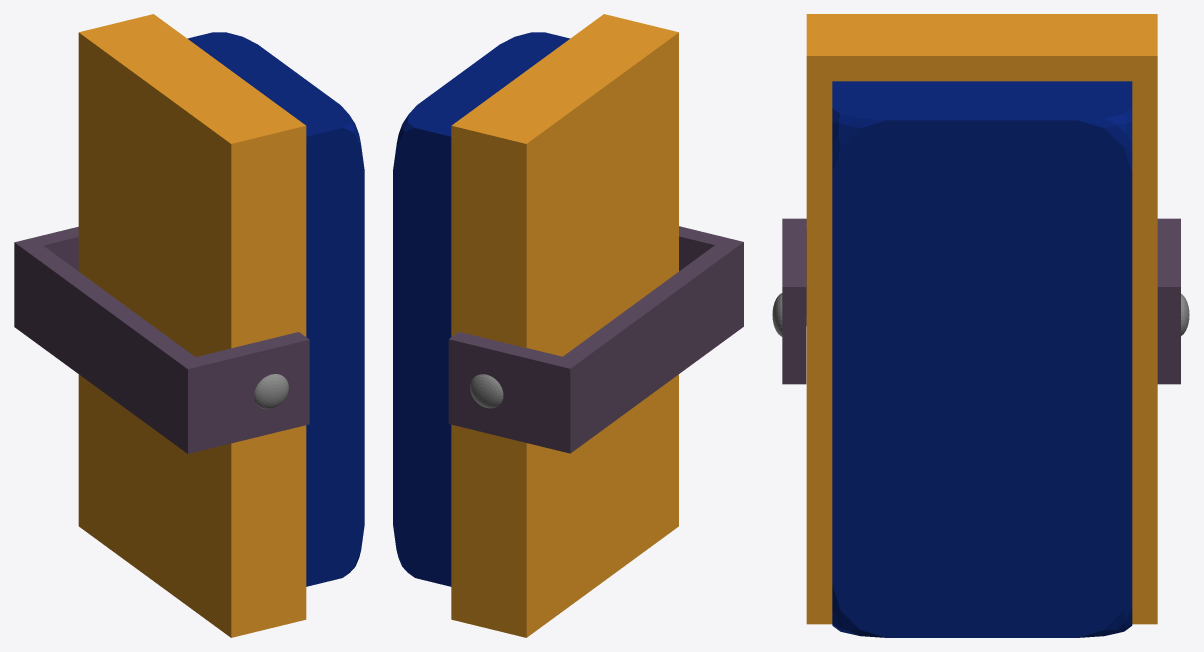
Rendered from blackBoardEraser 1.fbx.
3 renders of one model, left to right at view 1: azimuth 30°, elevation 25°; view 2: azimuth 150°, elevation 25°; view 3: azimuth 270°, elevation 25°, orthographic. The views are drawn at different scales.
Parts seen in each view (by area): view 1: Cube.005; view 2: Cube.005; view 3: Cube.005.
Boxes of the visible parts, x1,y1,x2,y2 form: Cube.005: (14, 14, 364, 637); Cube.005: (393, 14, 743, 637); Cube.005: (772, 14, 1189, 637).
Bounding box in the file's own units: 658 × 438 × 277.
